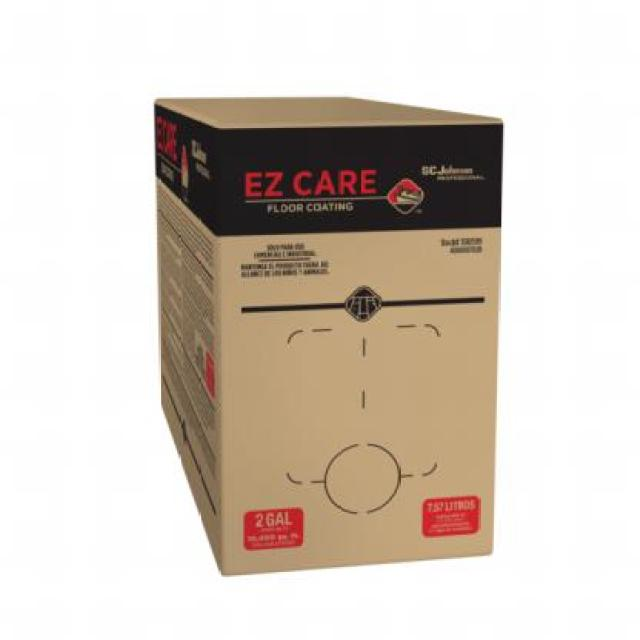box: (136, 81, 518, 587)
